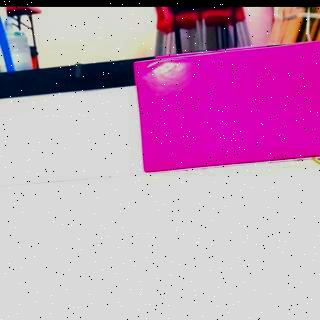xparking: (140, 62, 320, 162)
